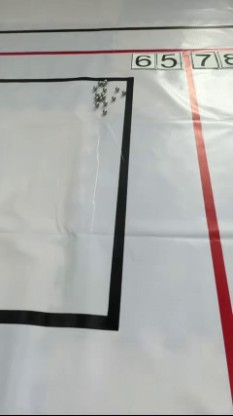ironball: (108, 92, 119, 104), (99, 96, 108, 106), (92, 99, 102, 107), (119, 87, 127, 96), (100, 107, 108, 115), (100, 76, 107, 85), (112, 84, 120, 91), (98, 93, 105, 101), (91, 84, 98, 91), (101, 85, 107, 92), (92, 90, 98, 96), (97, 90, 103, 96), (97, 78, 102, 84)
